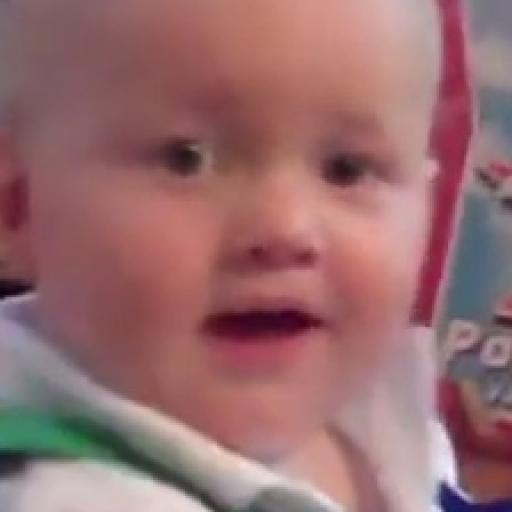Autism: (30, 6, 470, 446)
